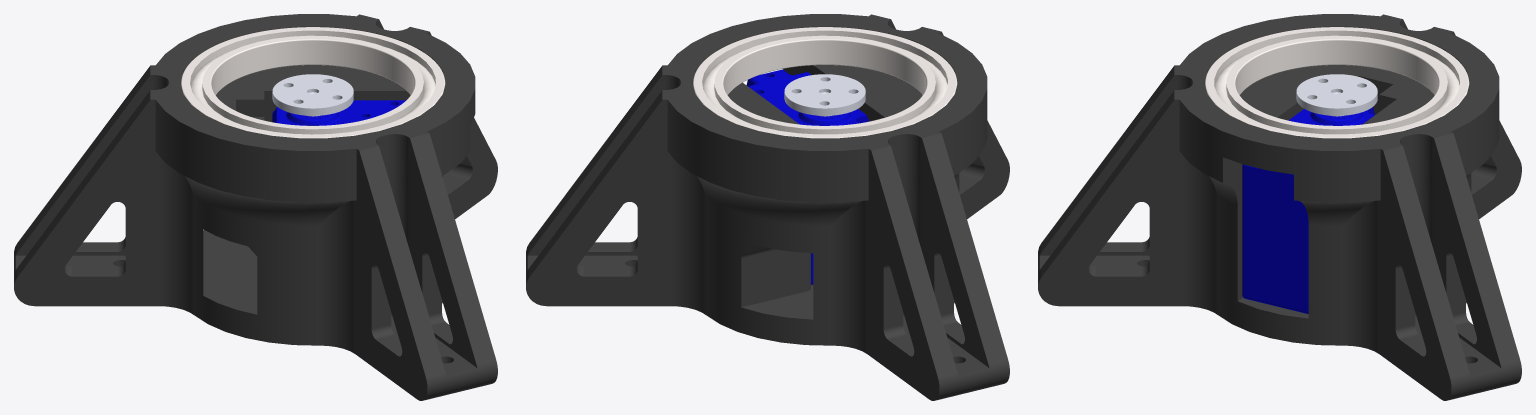
3 views of the same model, side by side, from view 1: azimuth 30°, elevation 25°; view 2: azimuth 150°, elevation 25°; view 3: azimuth 270°, elevation 25° (orthographic).
Parts seen in each view (by area): view 1: BASE; view 2: BASE; view 3: BASE.
Boxes of the visible parts, x1,y1,x2,y2 form: BASE: (14,14,497,400); BASE: (526,14,1009,400); BASE: (1038,14,1521,400).
Size of the model in its own units: 13.74 by 5.6 by 11.9.
